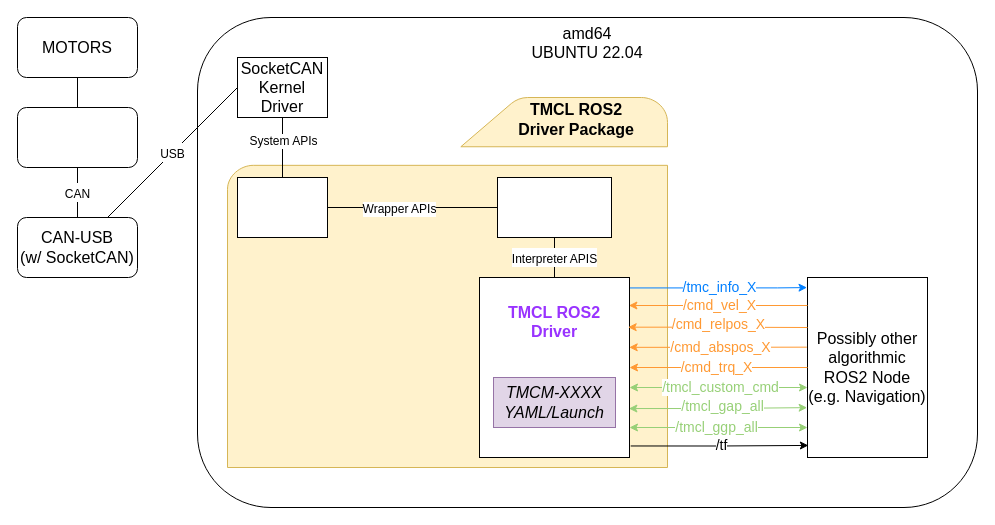
Some shapes in this 995 by 525 pixel diagram are drawn without their labels. Each missing label, with the centre of its shape:
"SocketCAN Wrapper" goes at (282,207).
"TMCL Protocol Interpreter" goes at (554,207).
"TMCM-XXXX" goes at (77,137).
